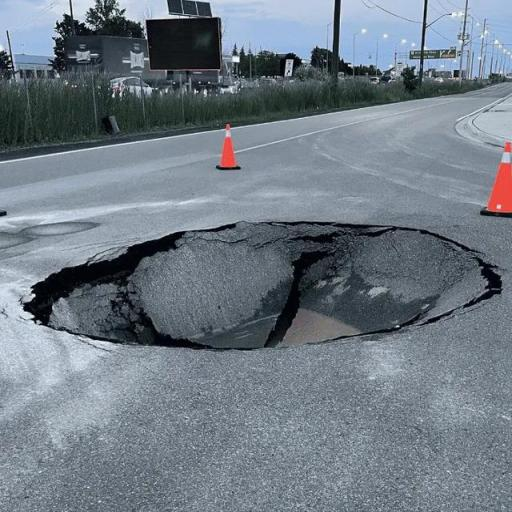Concentric_Crack: (24, 221, 500, 349)
